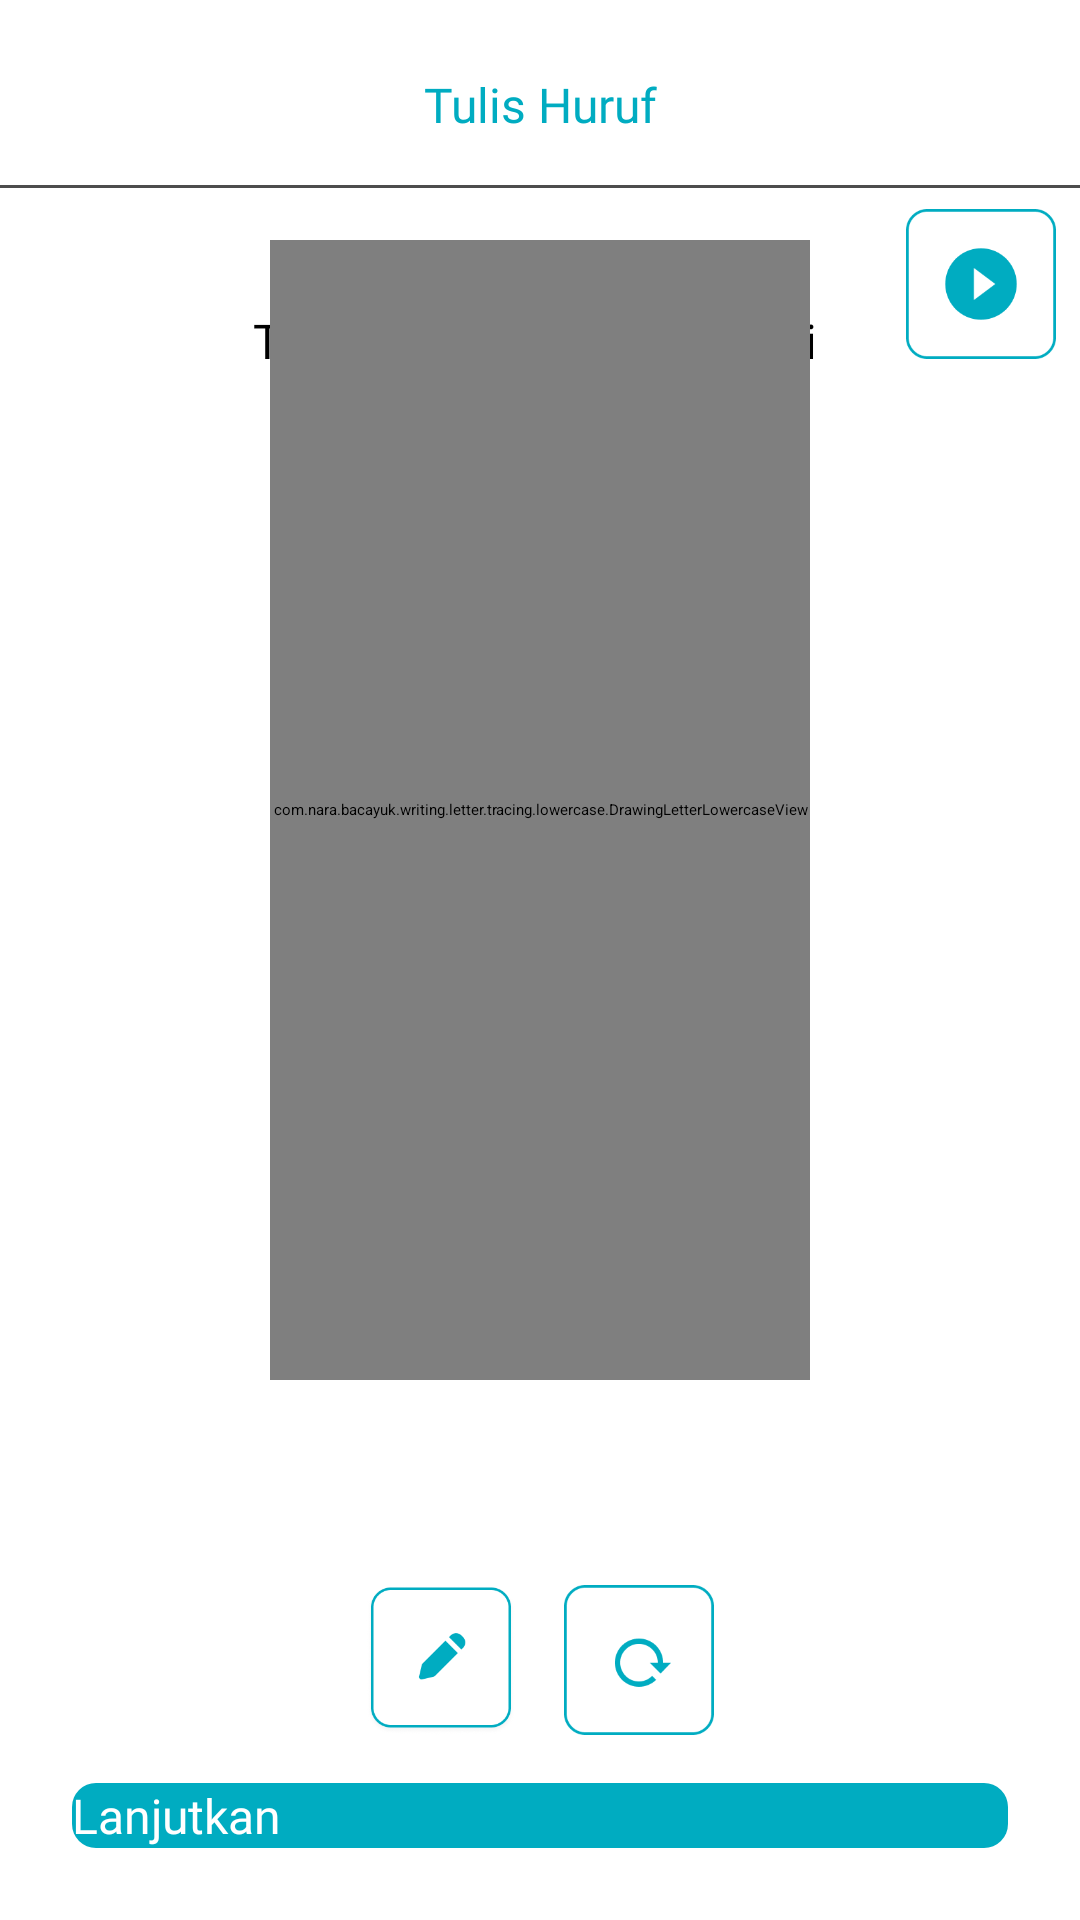

Screen size 1080 x 1920. Icon name, then its center in pixels as point (x, y):
Button Pencil: point (441, 1657)
Button Play Animation: point (981, 284)
Button Reload: point (639, 1660)
